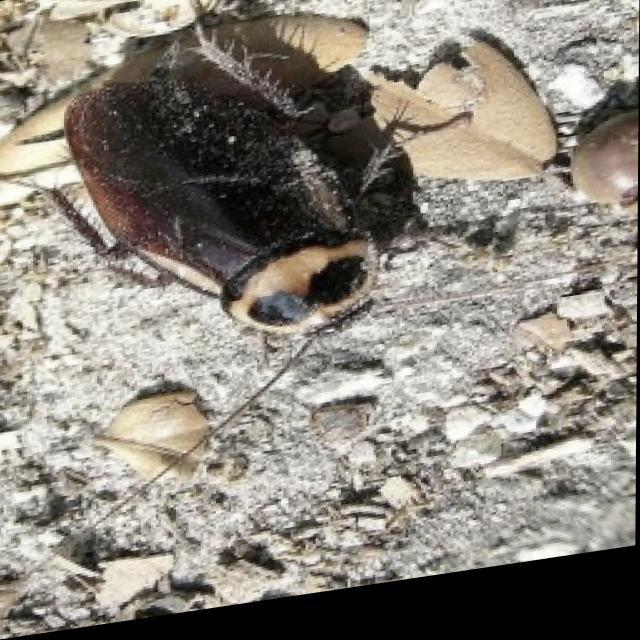cockroach: (29, 31, 372, 369)
